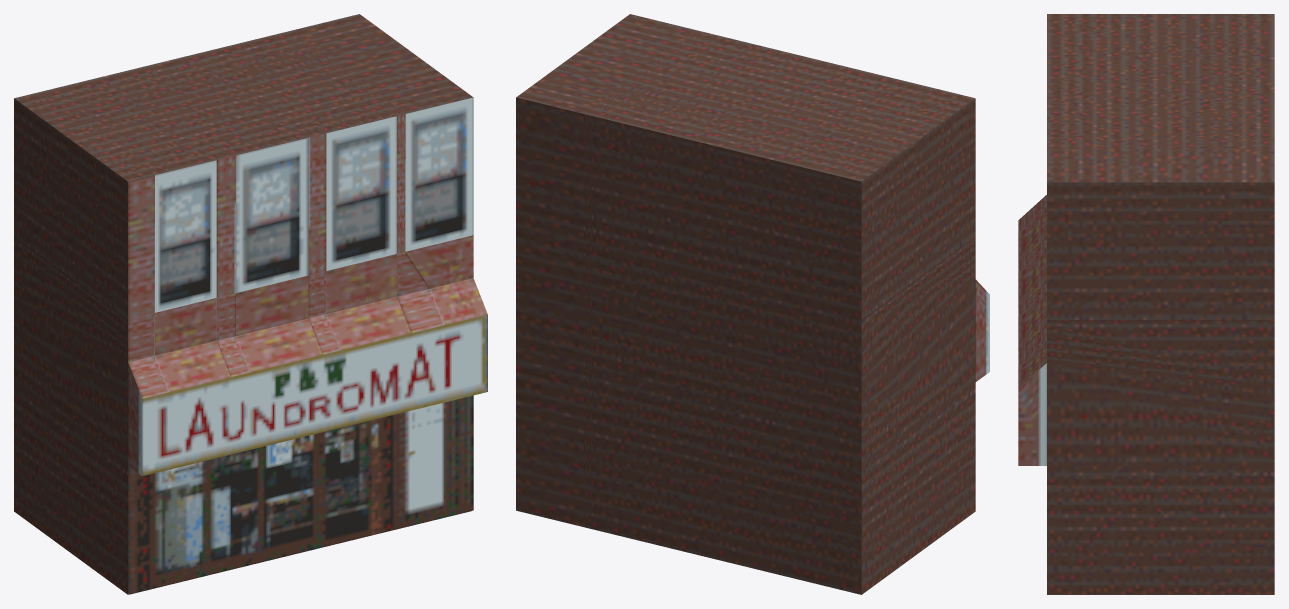
Rendered from laundrymat.fbx.
3 views of the same model, side by side, from view 1: azimuth 30°, elevation 25°; view 2: azimuth 150°, elevation 25°; view 3: azimuth 270°, elevation 25° (orthographic).
Visible parts, largest first — view 1: mesh; view 2: mesh; view 3: mesh.
Boxes of the visible parts, <box> form: mesh: <box>14,14,487,594</box>; mesh: <box>516,14,989,594</box>; mesh: <box>1018,14,1274,594</box>.
Size of the model in its own units: 43.75 by 50 by 28.12.
1 material, 1 textured.
